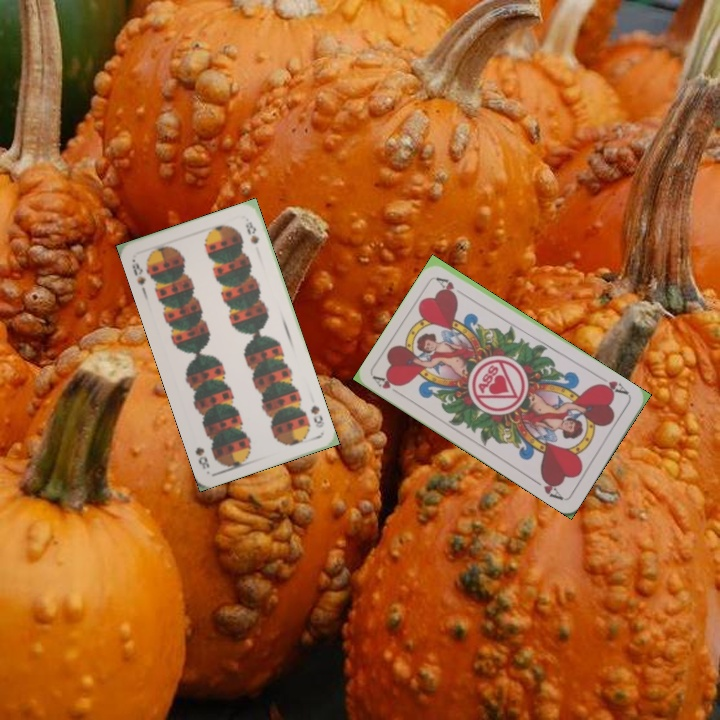HA: (592, 372, 632, 399), (370, 372, 407, 400)
S8: (128, 255, 148, 288), (306, 401, 327, 430)
